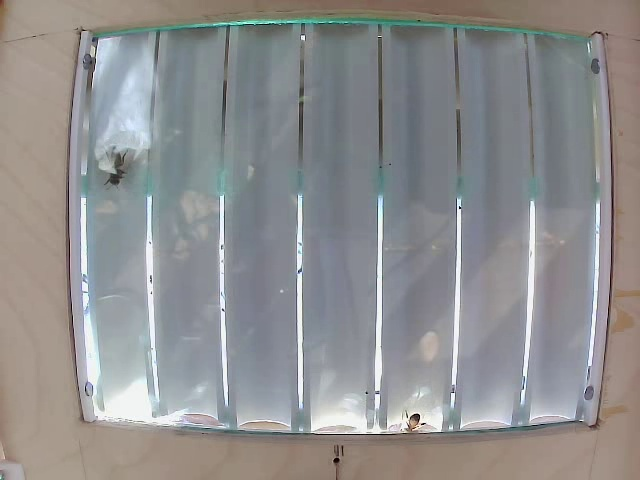bee: (98, 144, 131, 189)
